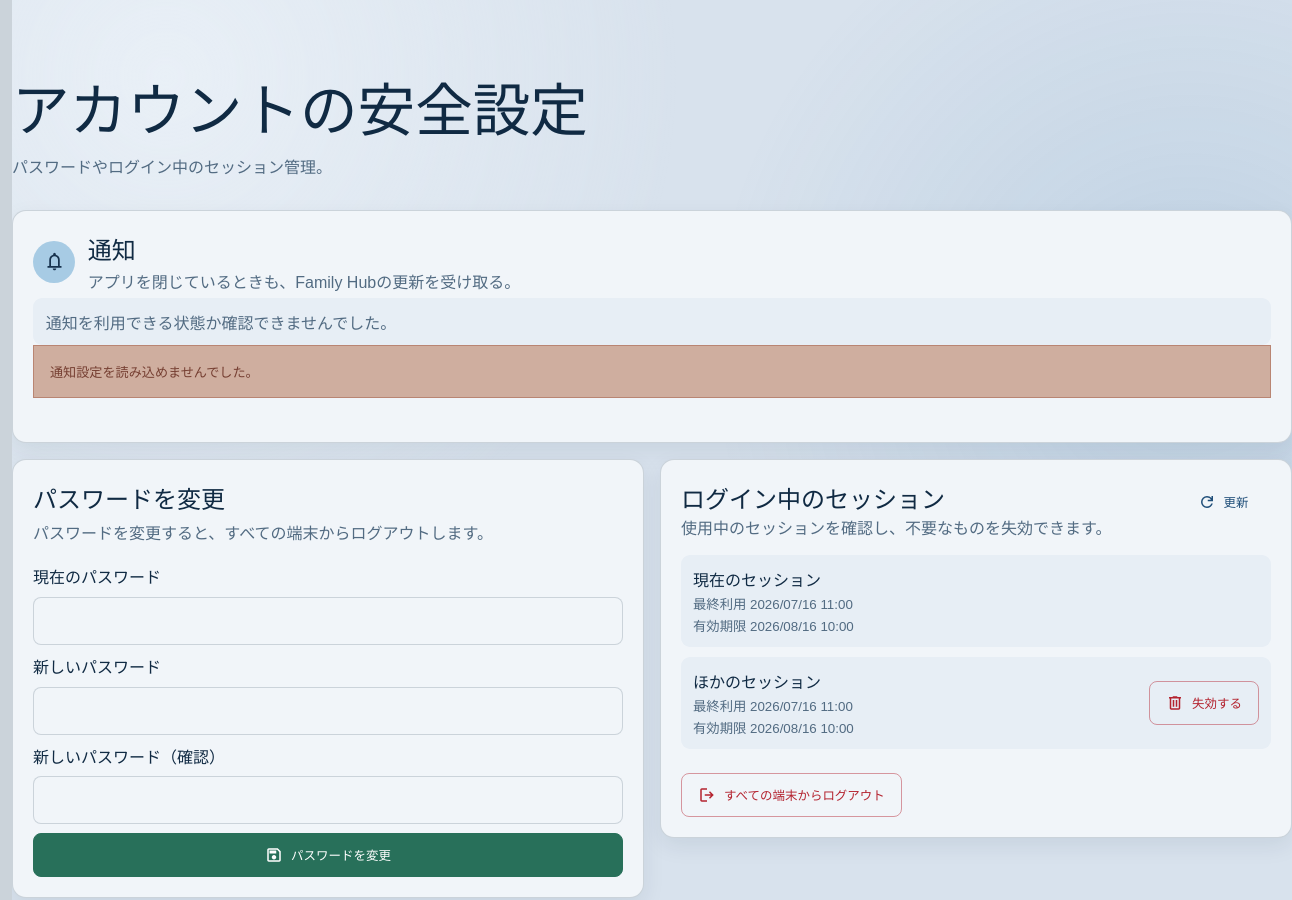
Test case: AccountPage › lists sessions and revokes another session
This screenshot has width=1292, height=900.
Expected: the text "現在のセッション" is shown, [693,572,821,589]
Expected: the text "ほかのセッション" is shown, [693,674,821,691]
Click the button "失効する" at [1204, 703], box [1149,681,1259,725]
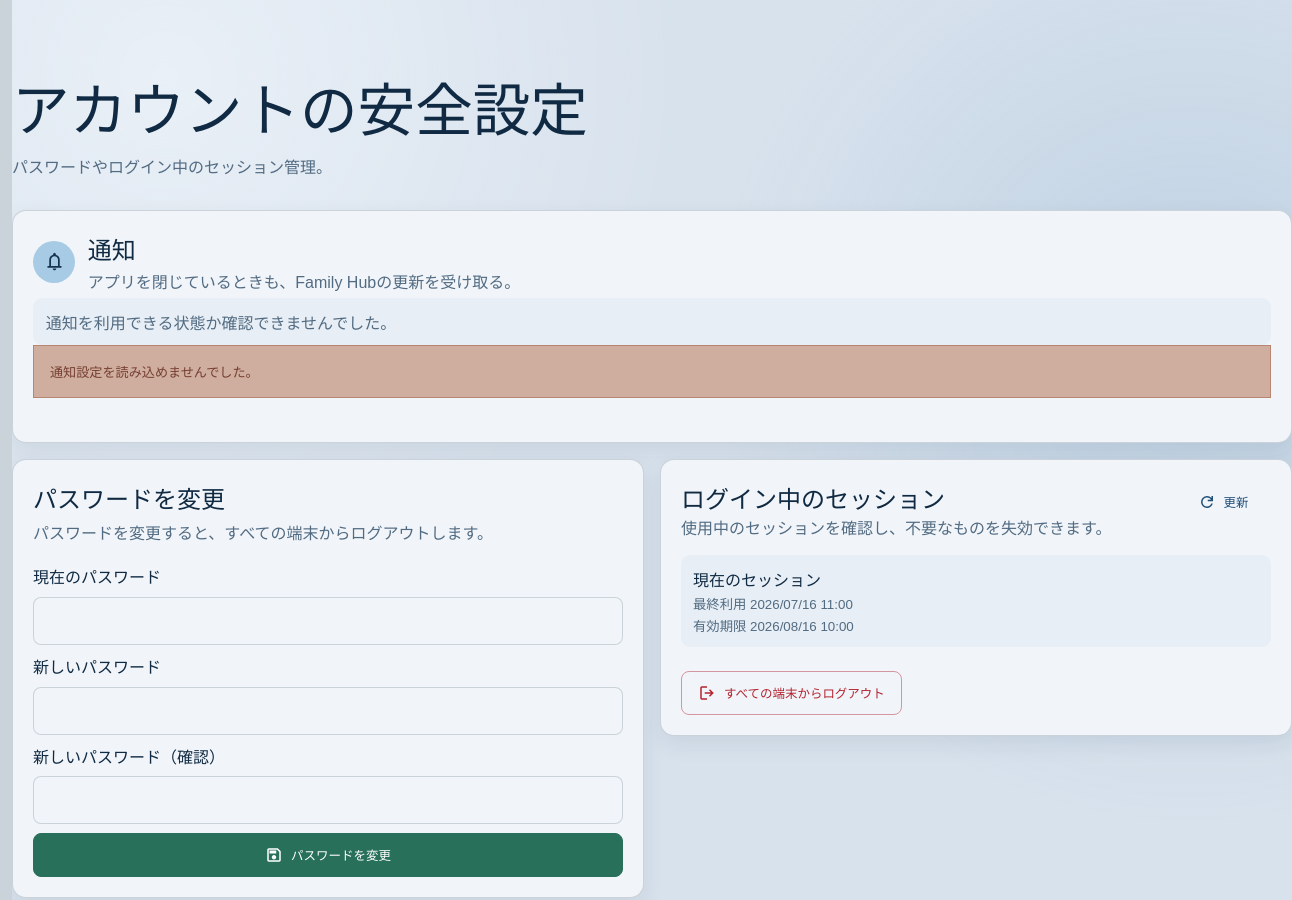
Expected: the text "ほかのセッション" is gone
